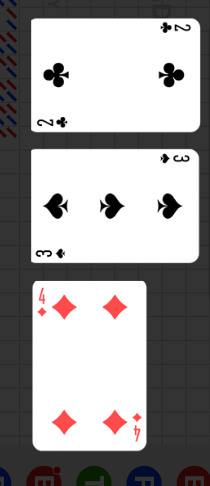2C: (36, 115, 70, 129)
3S: (34, 247, 68, 260)
4D: (131, 411, 143, 442)
